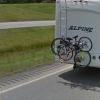Bicycle: (42, 25, 95, 70)
